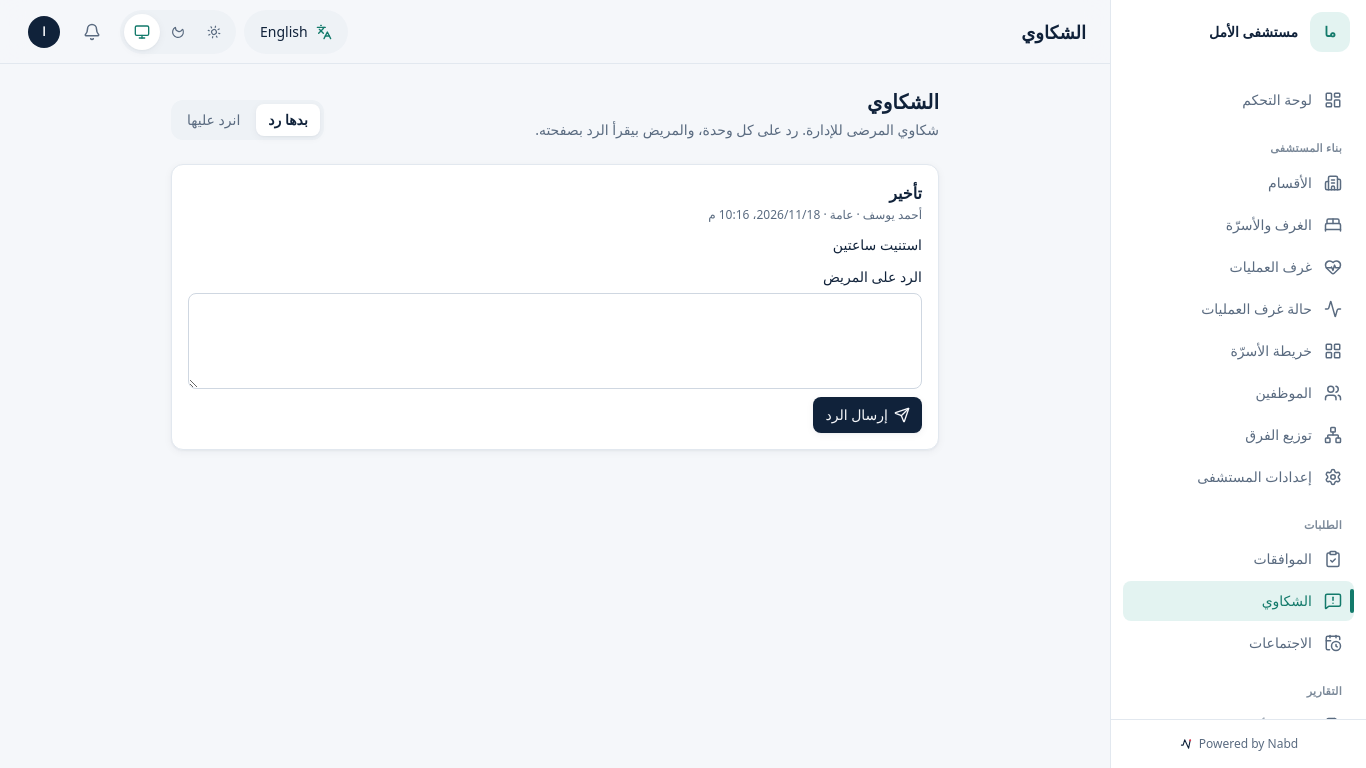
Test: AdminComplaintsPage (task 4.9) › answers an open complaint; an empty answer is refused
Expected: the list item "تأخير" shows "أحمد يوسف", [708, 206, 922, 223]
Step 1. Click the button "إرسال الرد" → (868, 415), box [813, 397, 922, 433]
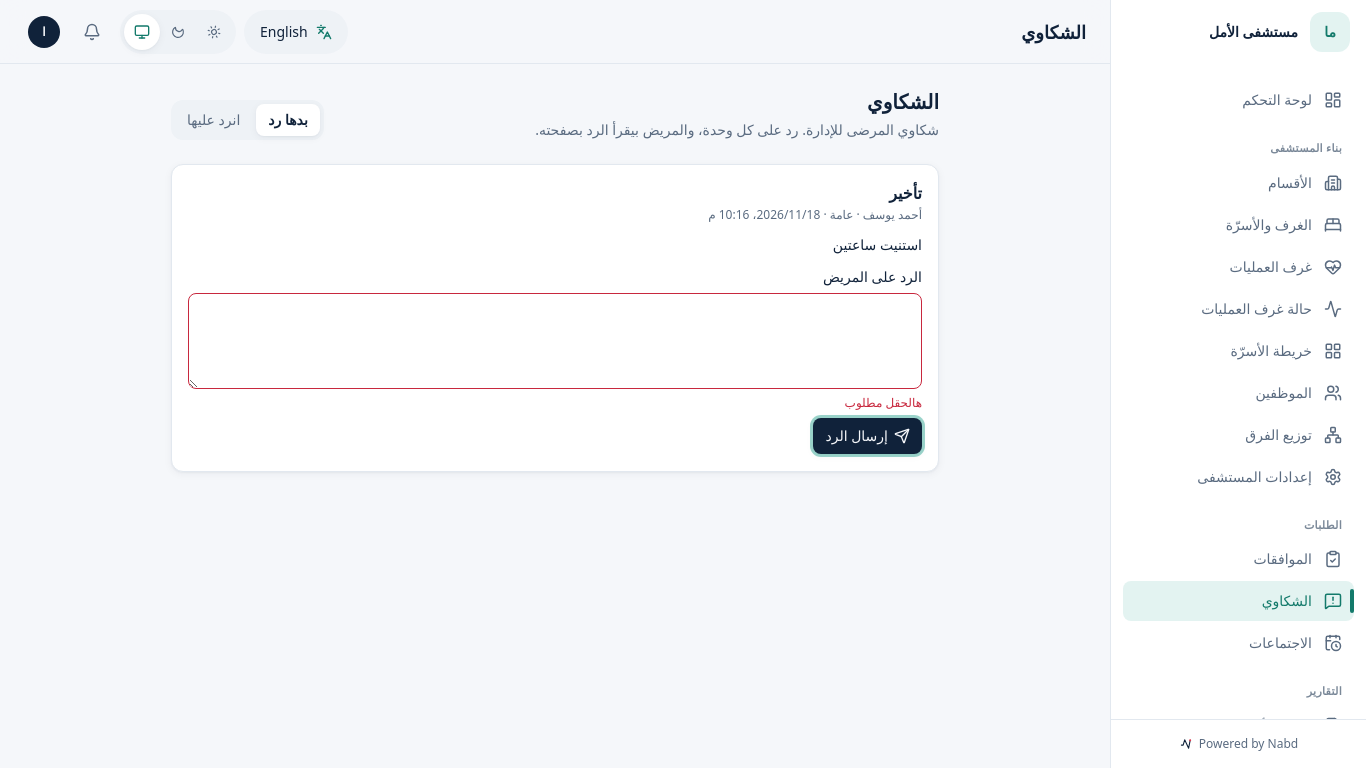
Result: the text "هالحقل مطلوب" is shown at [845, 394, 922, 411]
Step 2. Type "آسفين، تابعنا الموضوع" into the text box labelled "الرد على المريض" → (555, 341), box [188, 293, 922, 389]
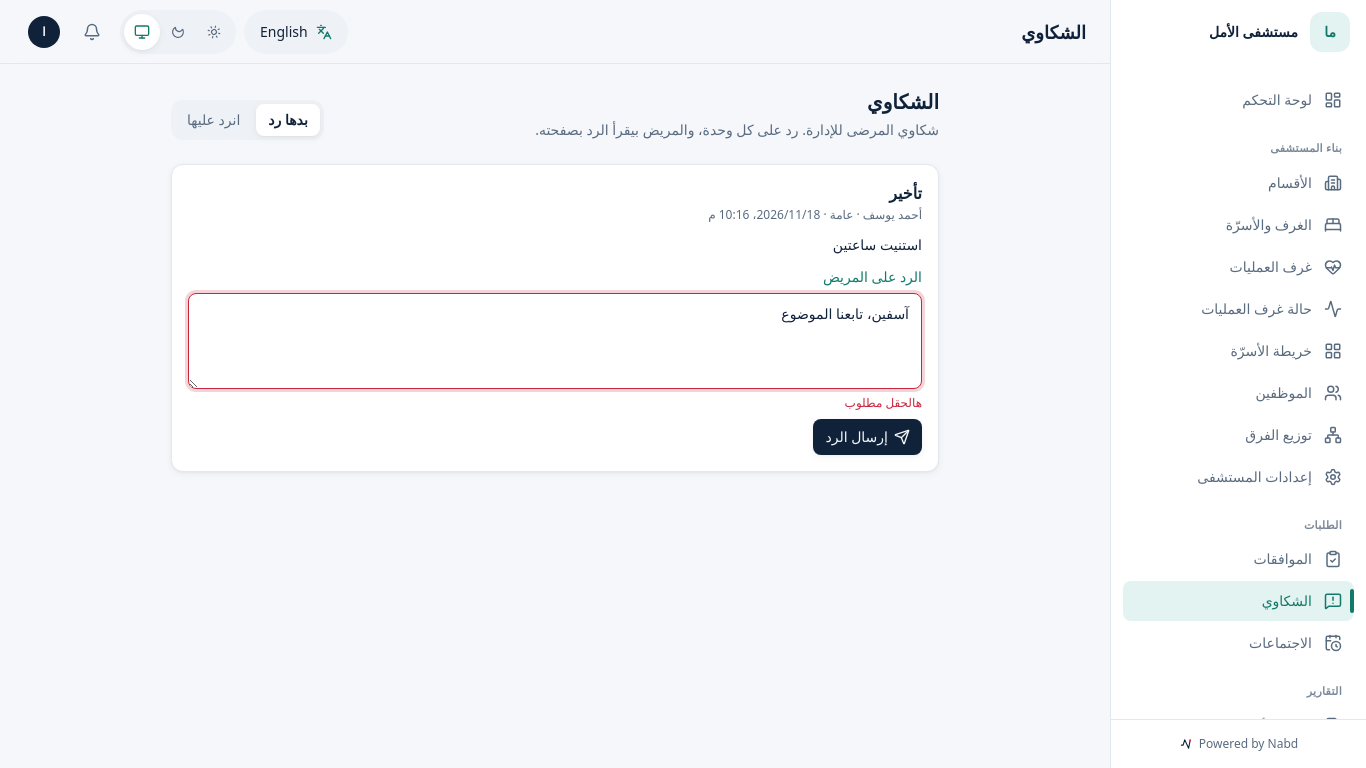
Step 3. Click the button "إرسال الرد" → (868, 437), box [813, 419, 922, 455]
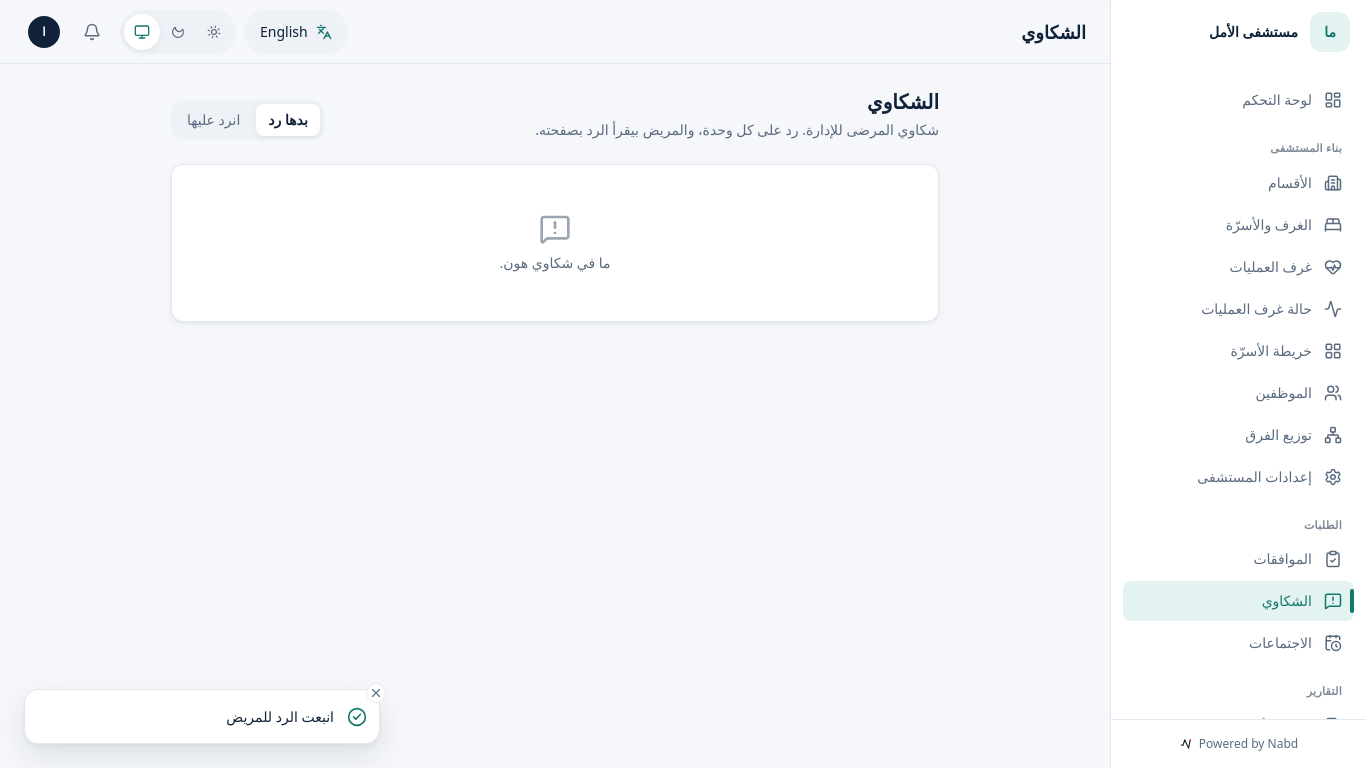
Result: the text "ما في شكاوي هون." is shown at [171, 164, 939, 322]
